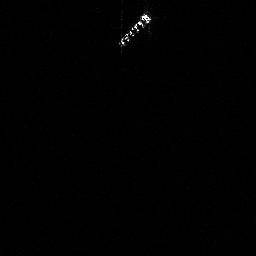ship: (117, 11, 151, 47)
